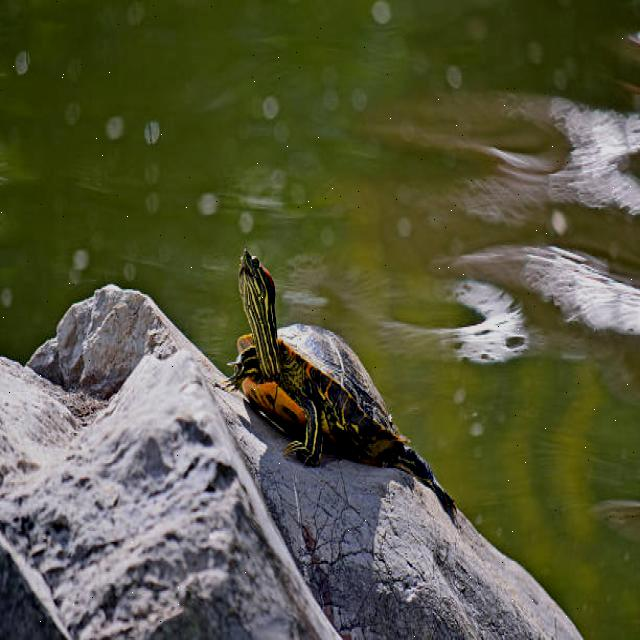tortoise: (222, 244, 456, 510)
